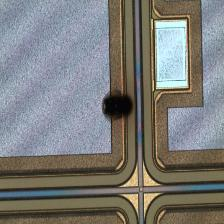PARTICLE: (98, 86, 138, 126)
